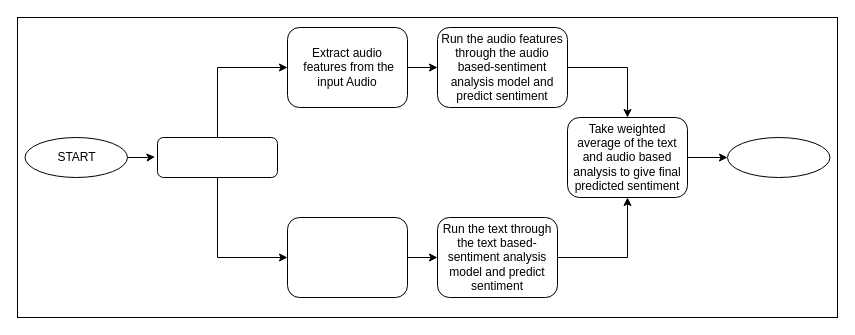
The diagram is 855 pixels wide and 335 high, and some of its shapes have lost their labels. The shapes that lost their labels are listed below. From the top down, each one's box as (x1, y1, x2, y2) in pixels, then its label:
(156, 136, 278, 178): Input Audio File
(726, 136, 830, 178): STOP
(286, 216, 408, 298): Run the Audio through a transcription tool and extract text
